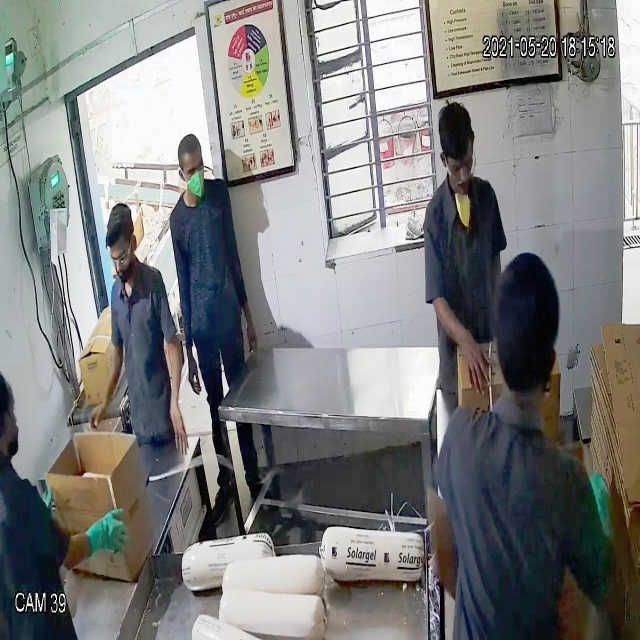Gafas: (438, 148, 477, 181)
Sin_gafas: (175, 158, 207, 181)
